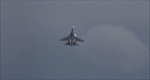maybay_muctieu: (59, 25, 84, 47)
